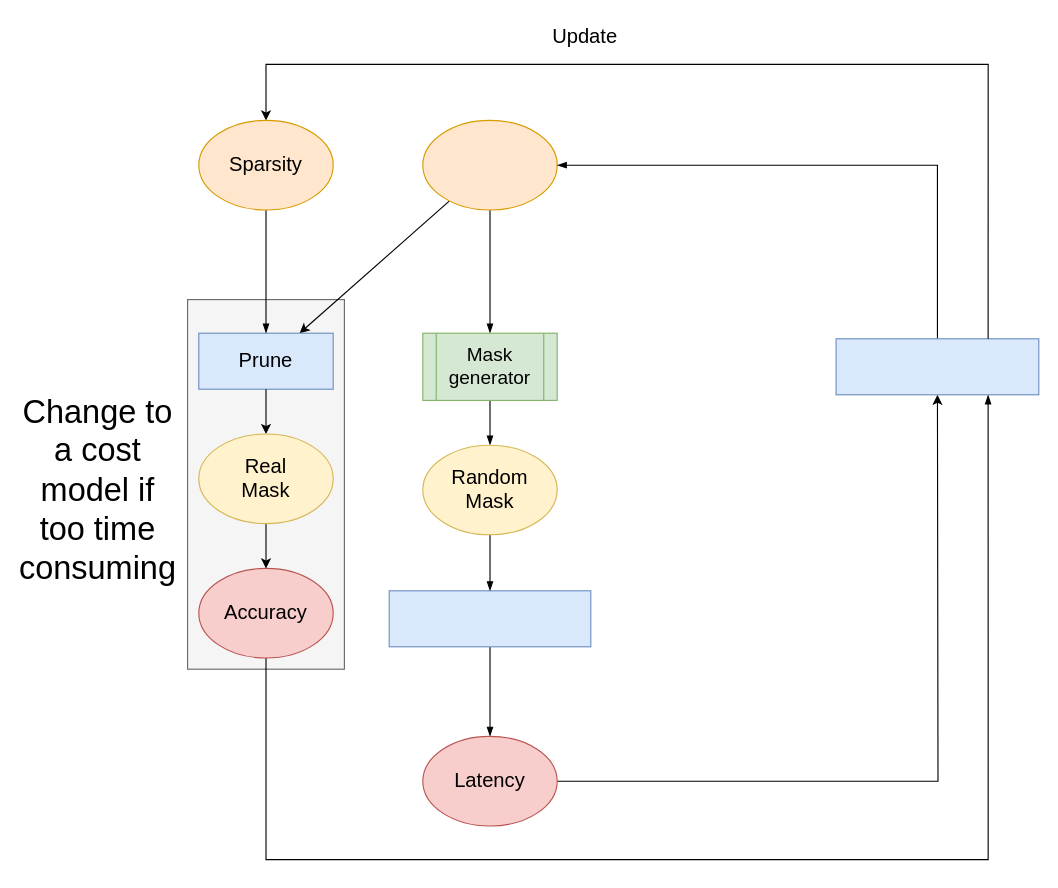
The diagram is 1058 pixels wide and 888 high, and some of its shapes have lost their labels. Each missing label, with the centre of its shape:
Cost Model: [937,366]
schedule a kernel: [489,618]
Tile Size: [489,164]
